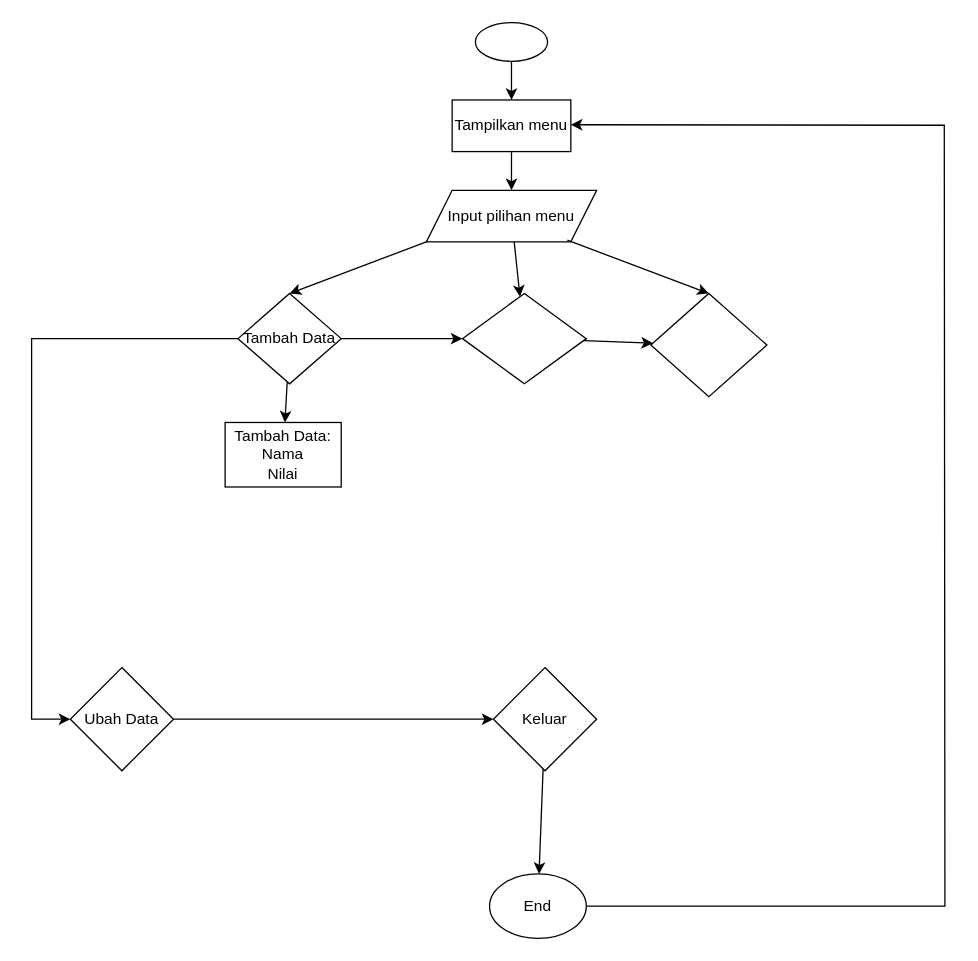
Image size: 978x961. Some labels were removed from this diagram. Here are the shapes that lost their labels. From the top down, the centre of each, then its label:
the point at 511,41: Start
the point at 523,338: Tampilkan Data
the point at 708,344: Hapus Data
